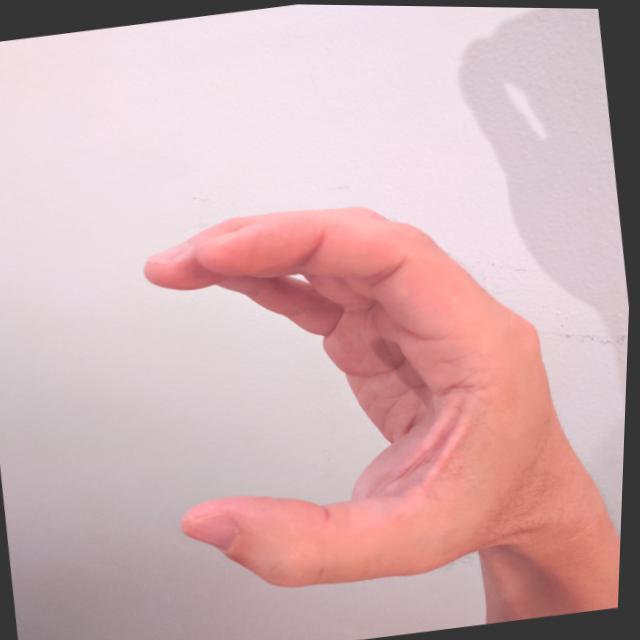C: (119, 161, 630, 618)
